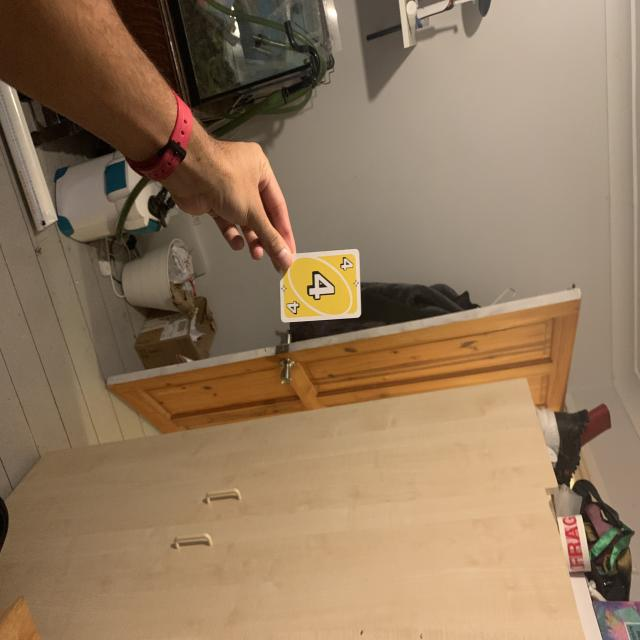lyellow-4: (336, 254, 356, 275)
